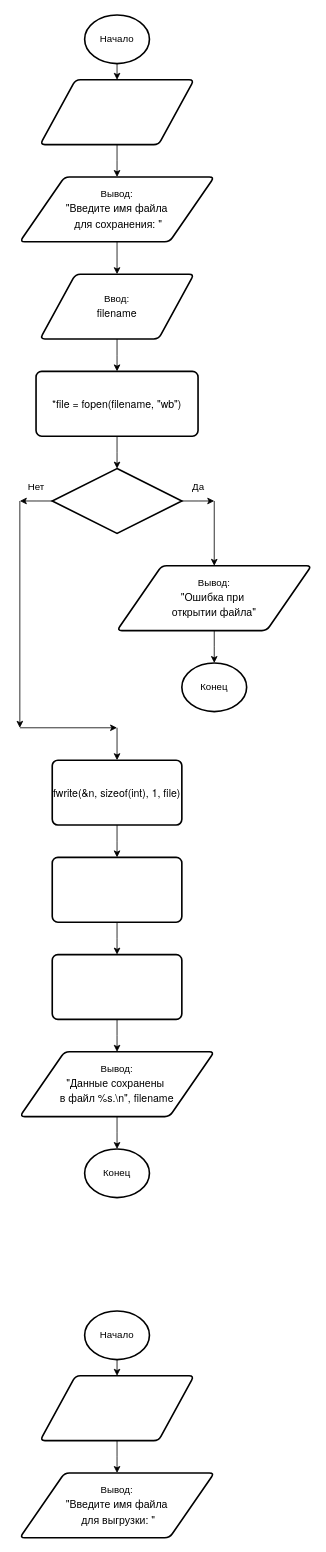
The diagram is 326 pixels wide and 1552 high, and some of its shapes have lost their labels. Here are the shapes that lost their labels. From the top down, the centre of each, then its label:
the point at 116,112: Ввод: struct rectangle *arr, int n
the point at 116,500: !file
the point at 116,889: fwrite(arr, sizeof(struct rectangle), n, file)
the point at 116,986: fclose(file)
the point at 116,1408: Ввод: struct rectangle *arr, int *n
